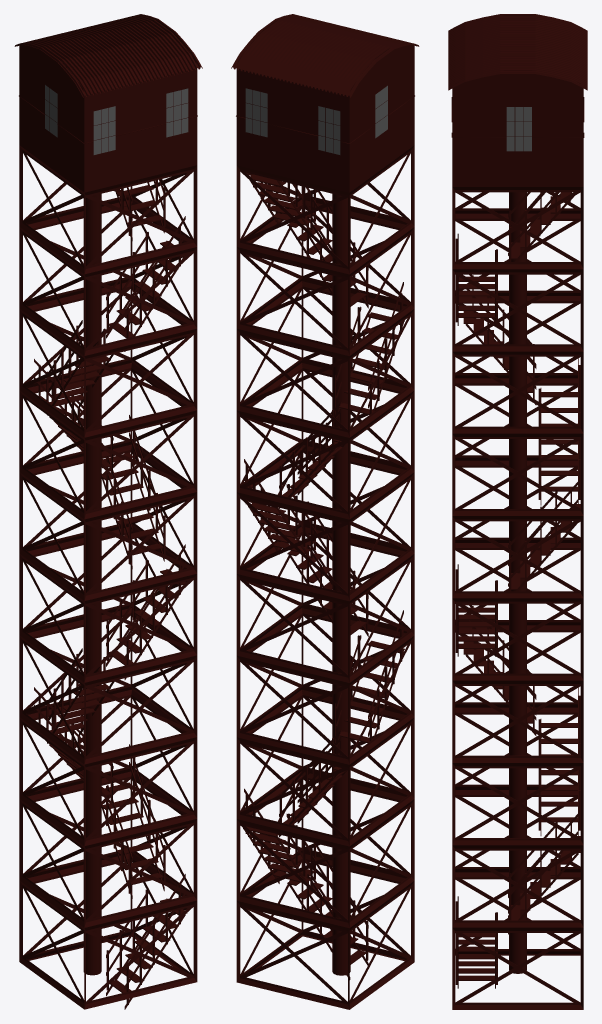
Rendered from haulitorni.obj.
The picture shows the model from 3 angles, left to right: view 1: azimuth 30°, elevation 25°; view 2: azimuth 150°, elevation 25°; view 3: azimuth 270°, elevation 25°; orthographic projection.
Parts seen in each view (by area): view 1: inner_roof.004_Cube.004; view 2: inner_roof.004_Cube.004; view 3: inner_roof.004_Cube.004.
Part boxes in pixels (x1,y1,x2,y2): inner_roof.004_Cube.004: (14,14,202,1009); inner_roof.004_Cube.004: (231,14,419,1009); inner_roof.004_Cube.004: (448,14,587,1009).
Size of the model in its own units: 7.29 by 55 by 7.3.
